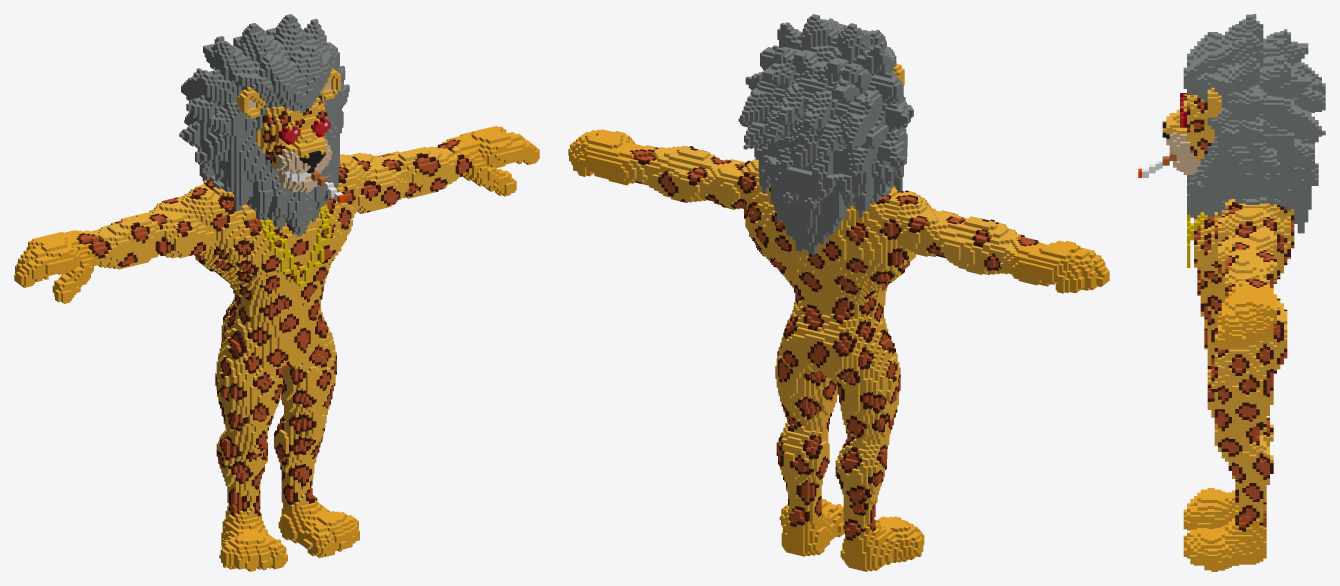
The model's file is 28-C4FJXIGP.glb.
The picture shows the model from 3 angles, left to right: view 1: azimuth 30°, elevation 25°; view 2: azimuth 150°, elevation 25°; view 3: azimuth 270°, elevation 25°; orthographic projection. The views are drawn at different scales.
Parts seen in each view (by area): view 1: cigarette; view 2: cigarette; view 3: cigarette.
Boxes of the visible parts, x1,y1,x2,y2 form: cigarette: [14, 14, 539, 571]; cigarette: [568, 14, 1109, 571]; cigarette: [1138, 14, 1325, 571].
Size of the model in its own units: 17.2 by 16.5 by 5.4.
5 materials, 5 textured.
